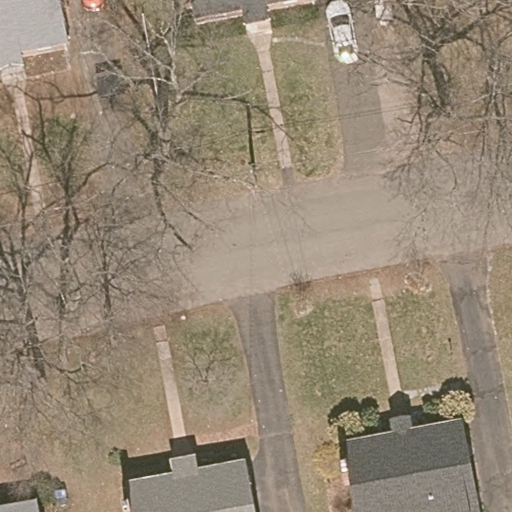DT: (248, 160, 261, 191)
